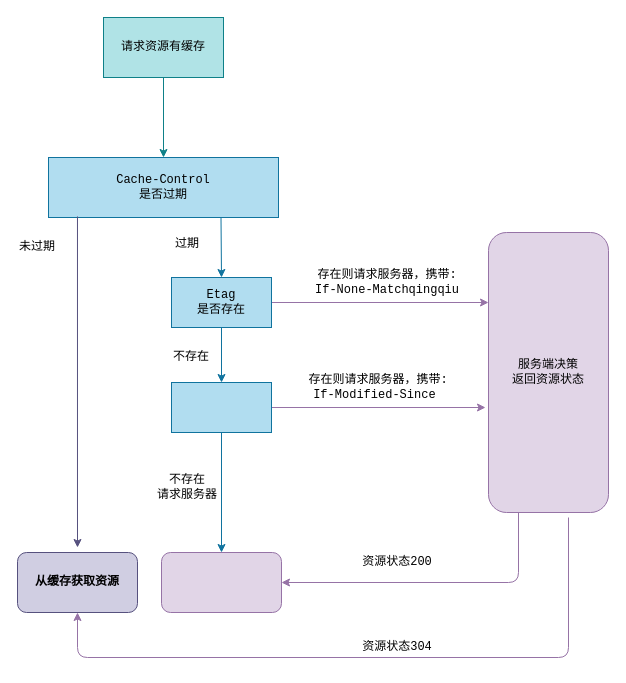
This 626x683 diagram has some shape labels left out. Here are the shapes that lost their labels. From the top down, the centre of each, then its label:
(221,407): Last-Modified 是否存在
(221,582): 从服务器获取资源
